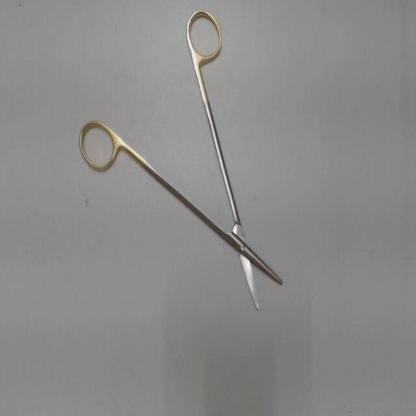7 Metzenbaum Scissors: (75, 4, 286, 314)
